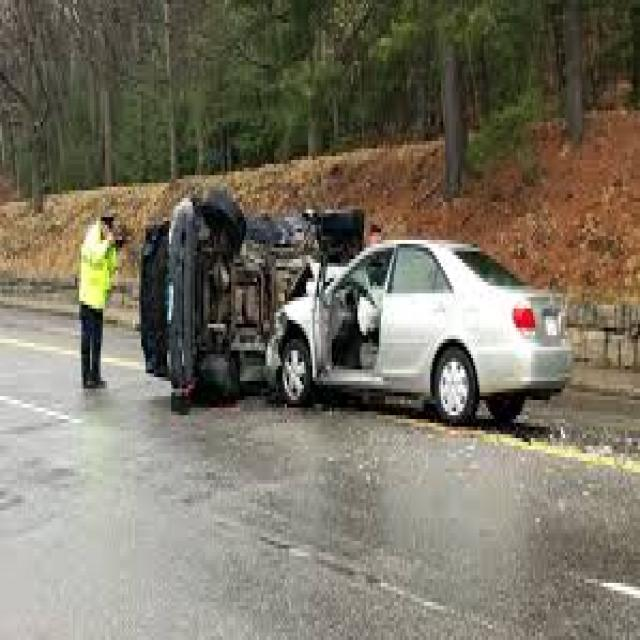accident: (130, 180, 580, 435), (142, 179, 349, 420)
